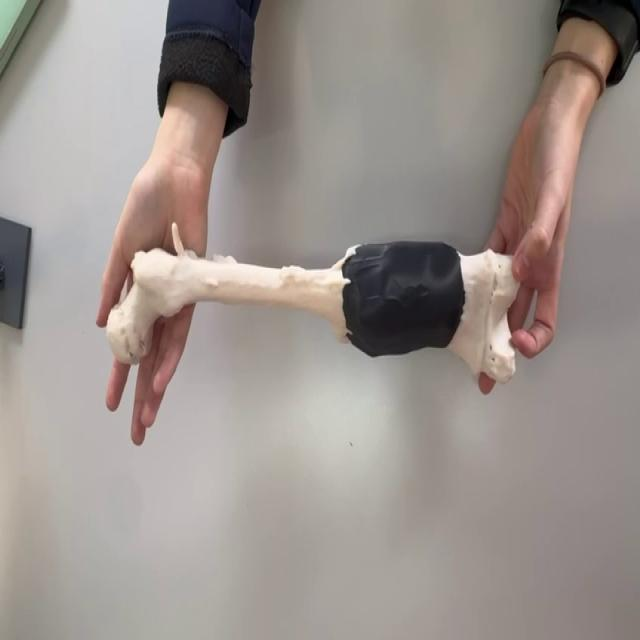bones: (106, 223, 519, 382)
